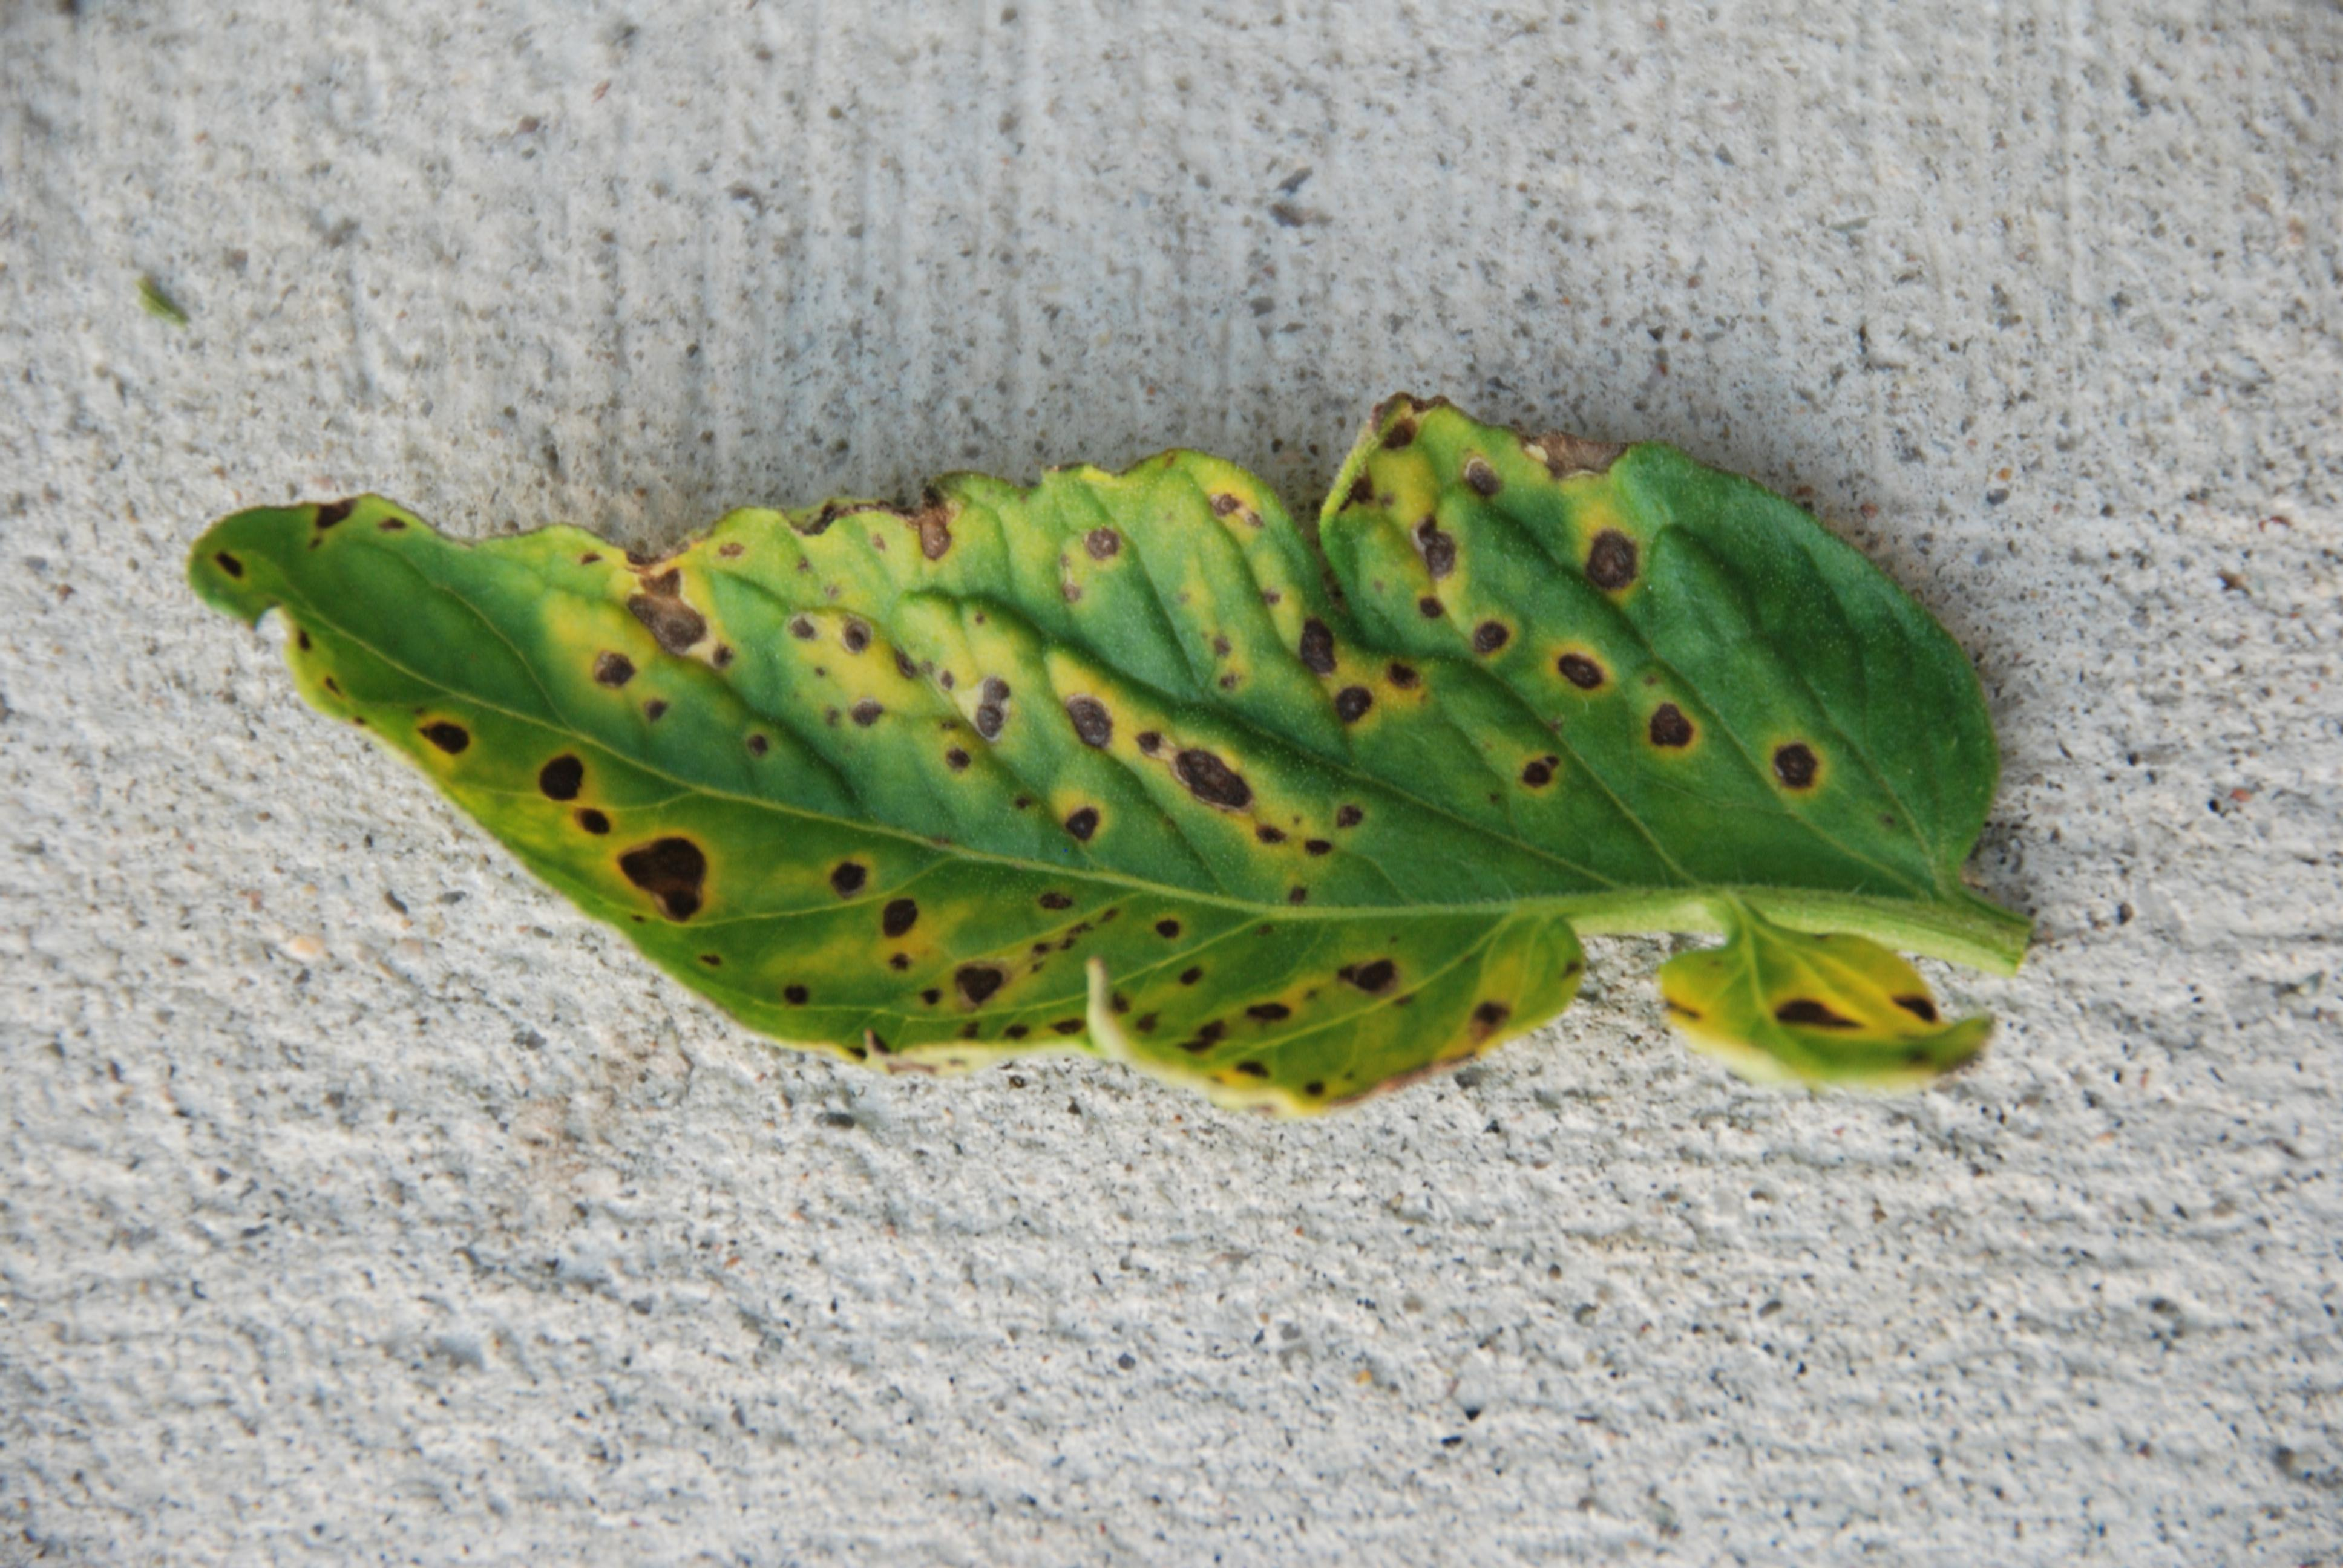Tomato Early blight leaf: (166, 406, 2007, 1127)
